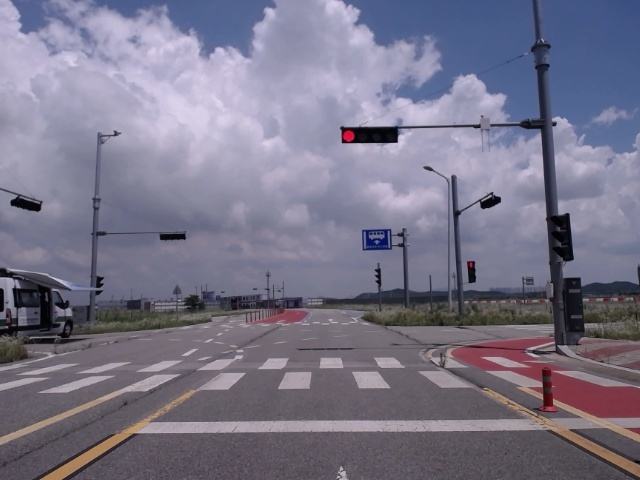red_4: (342, 129, 398, 143)
